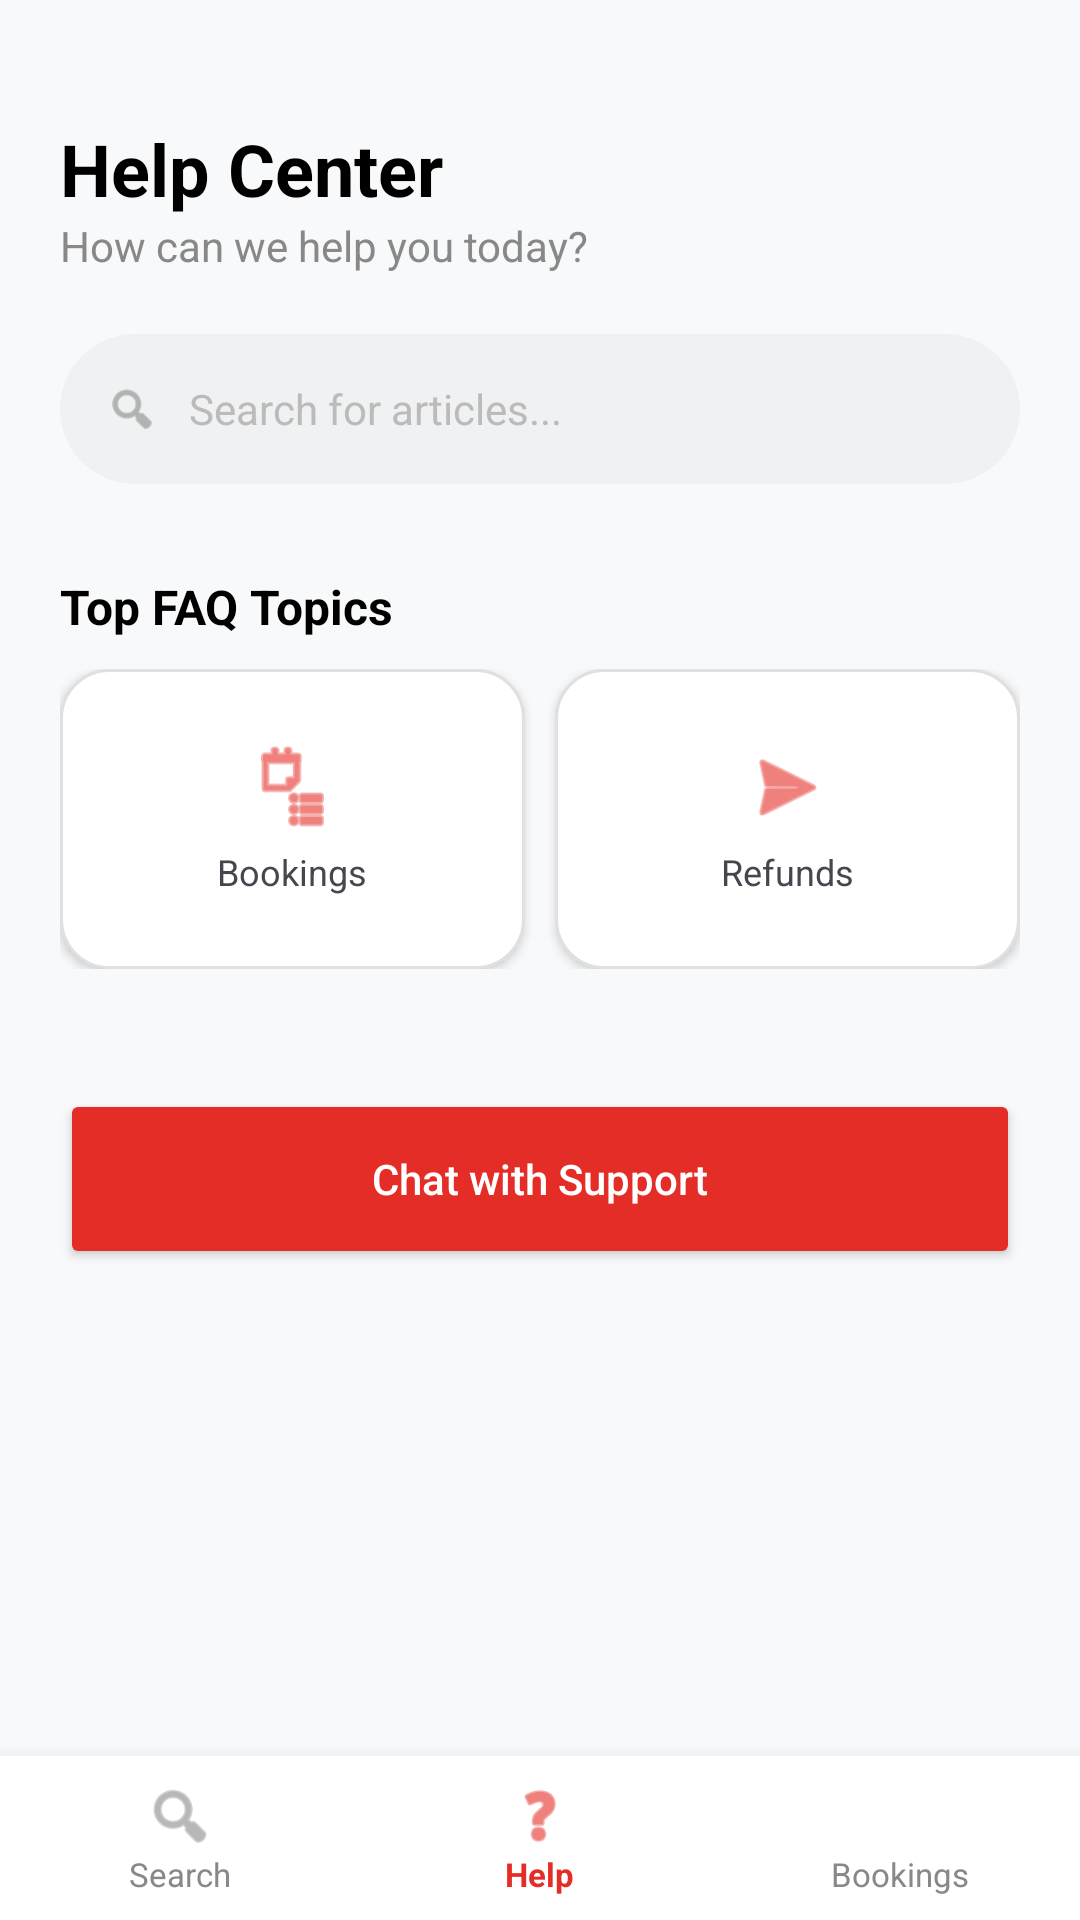

Icons on this 1080w x 1920h Android screen, each with its box as (x1,y1,x2,y2):
agenda: (261,746,324,827)
send: (759,759,817,816)
